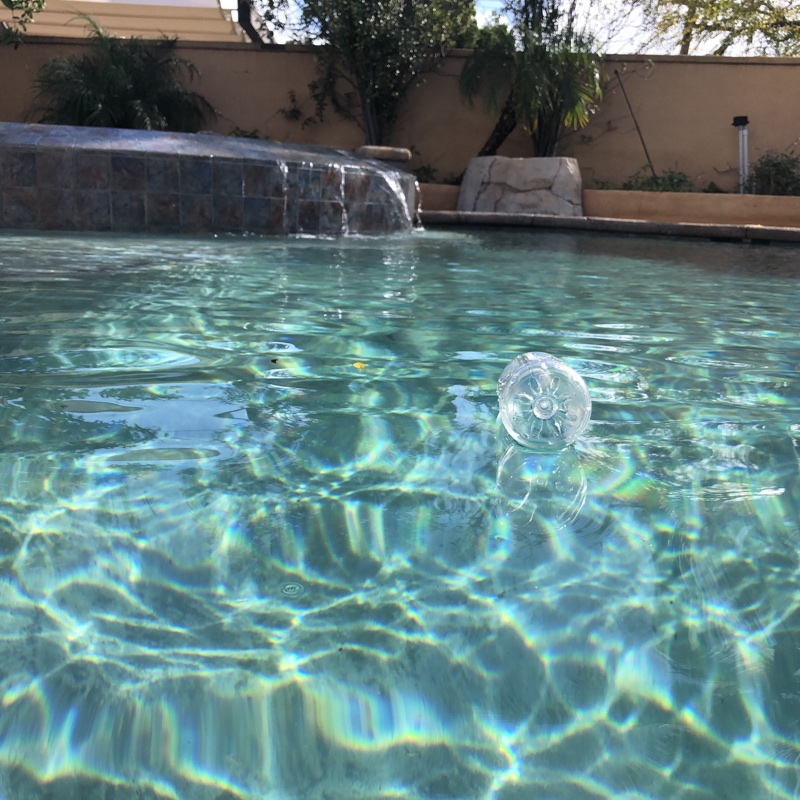Plastic Bottle: (496, 348, 590, 454)
